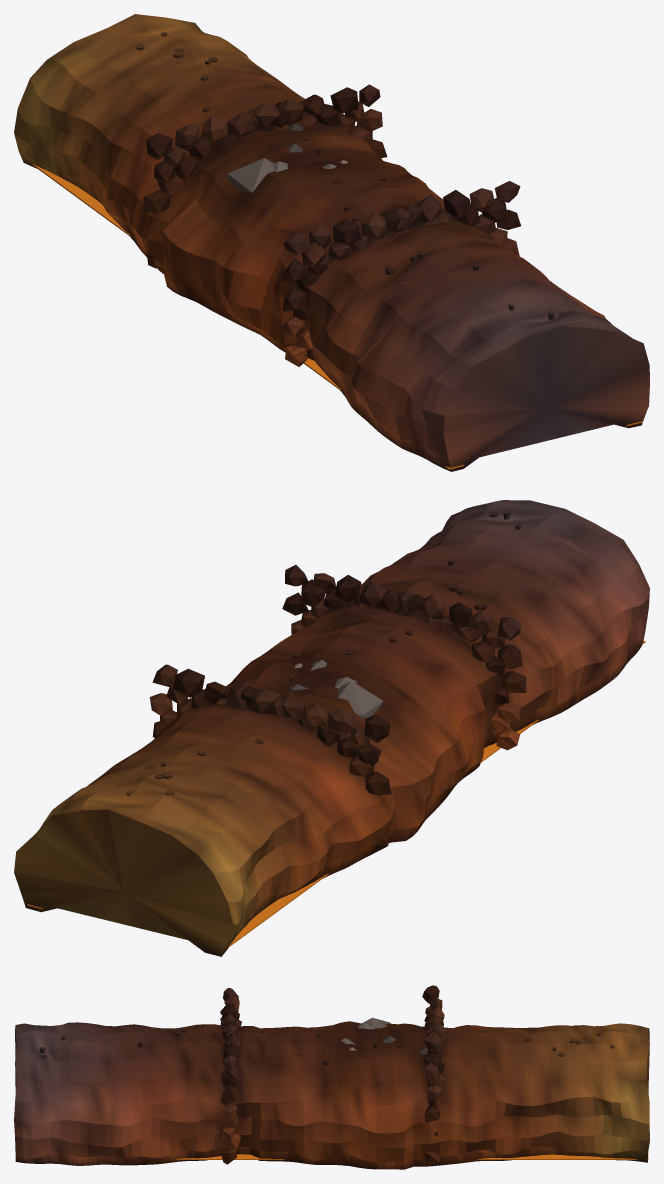
The model's file is caverne.glb.
3 views of the same model, one above another, from view 1: azimuth 30°, elevation 25°; view 2: azimuth 150°, elevation 25°; view 3: azimuth 270°, elevation 25° (orthographic). The views are drawn at different scales.
Parts seen in each view (by area): view 1: C_grotte, C_murs, C_entree, C_lave; view 2: C_grotte, C_murs, C_entree, C_lave; view 3: C_grotte, C_murs, C_lave, C_entree.
Part boxes in pixels (x1=…): C_grotte: x1=14, y1=14, x2=649, y2=471; C_murs: x1=143, y1=84, x2=520, y2=366; C_entree: x1=227, y1=123, x2=347, y2=192; C_lave: x1=31, y1=163, x2=642, y2=469; C_grotte: x1=14, y1=500, x2=649, y2=956; C_murs: x1=149, y1=565, x2=526, y2=851; C_entree: x1=290, y1=660, x2=383, y2=718; C_lave: x1=27, y1=640, x2=645, y2=947; C_grotte: x1=14, y1=1021, x2=649, y2=1169; C_murs: x1=220, y1=985, x2=445, y2=1165; C_lave: x1=176, y1=1153, x2=648, y2=1159; C_entree: x1=341, y1=1017, x2=427, y2=1054.
Size of the model in its own units: 19.37 by 10.78 by 56.31.
